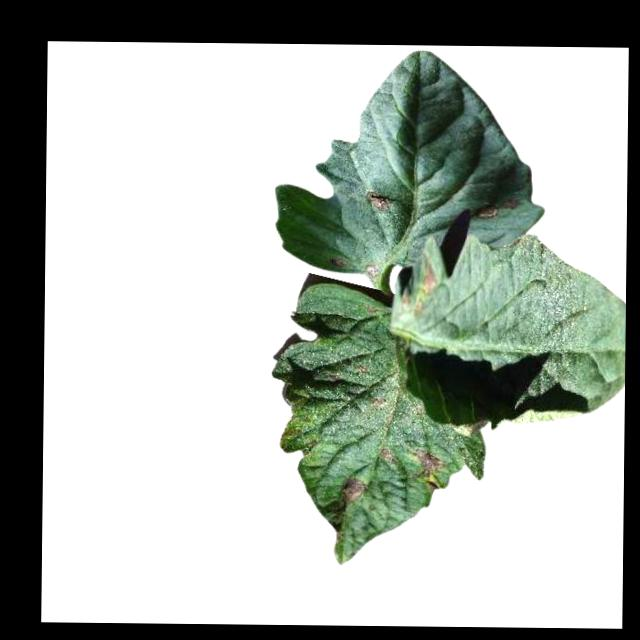Early_blight: (400, 261, 440, 318), (415, 446, 448, 481), (342, 477, 366, 503), (364, 189, 392, 210), (364, 261, 380, 279), (382, 447, 394, 462)
